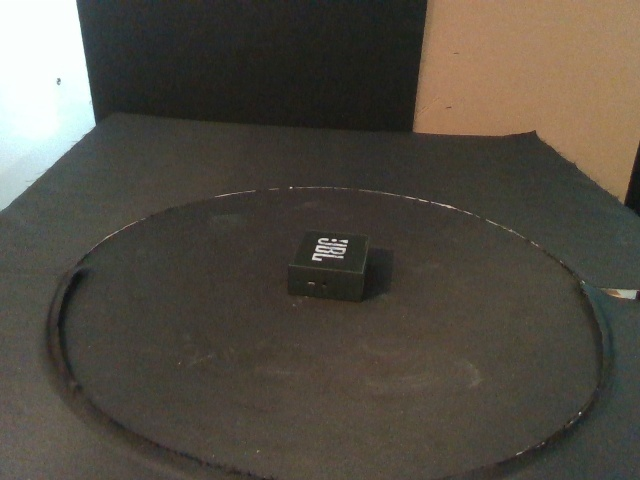speaker: (286, 229, 371, 303)
